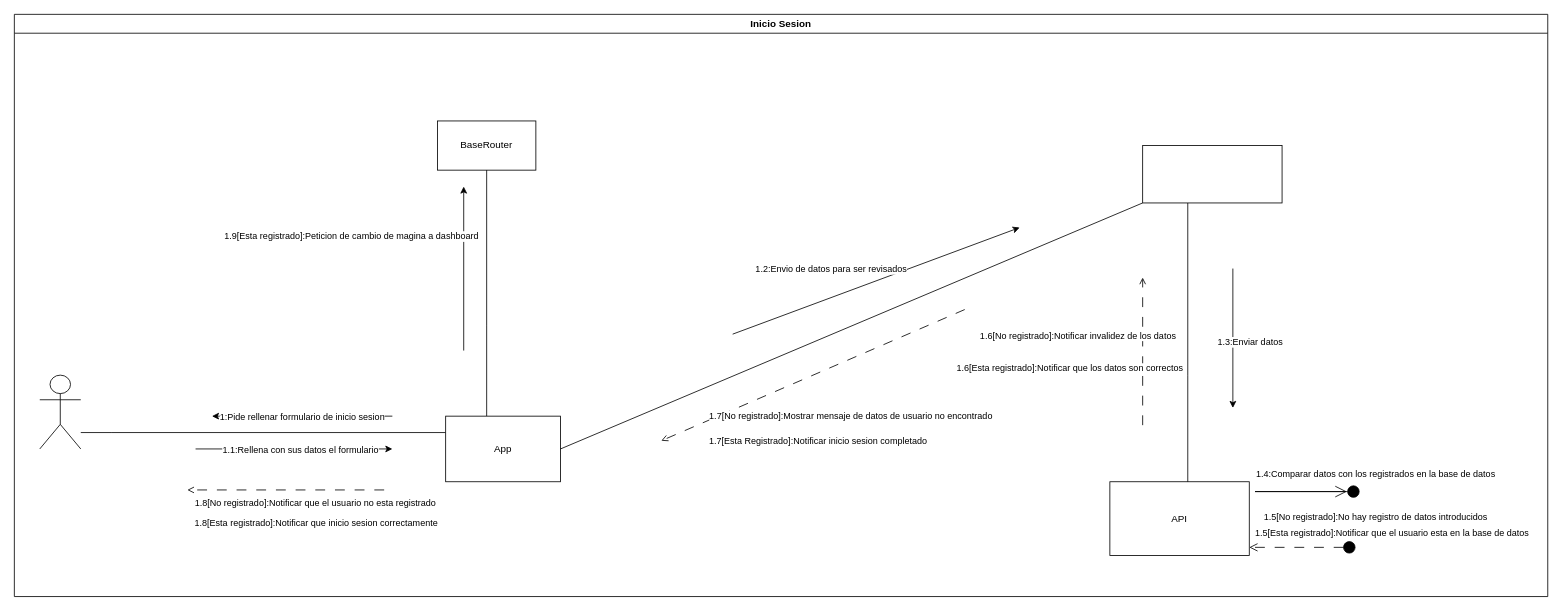
The diagram is 1562 pixels wide and 611 high, and some of its shapes have lost their labels. The shapes that lost their labels are listed below. From the top down, each one's centre as x and y in pixels, then its label:
the point at 1212,174: Login
the point at 60,411: Usuario
